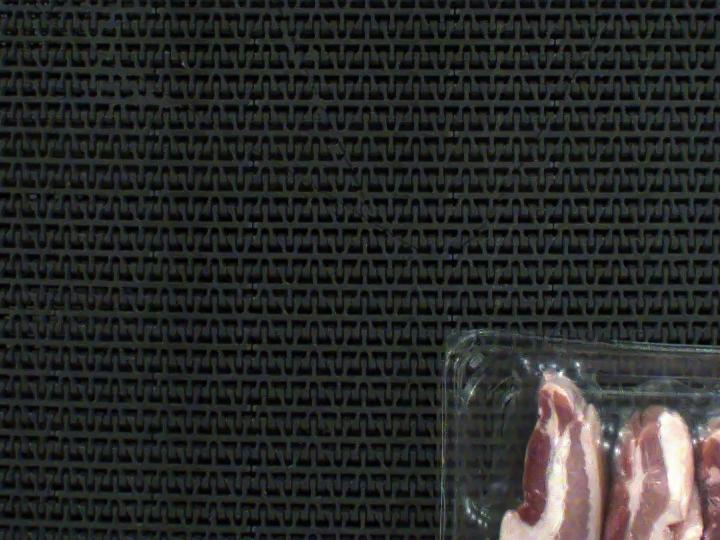unsealed: (488, 358, 720, 540)
